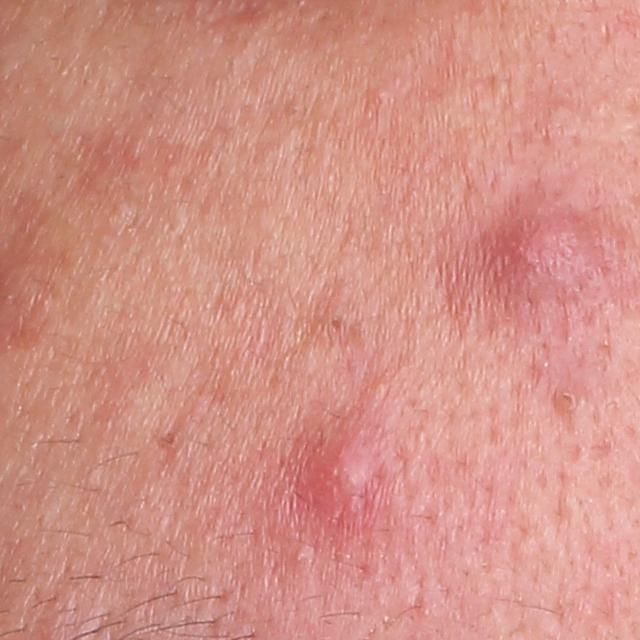comedo: (552, 388, 582, 416), (292, 541, 318, 568), (369, 84, 394, 102), (160, 429, 180, 448)
papule: (497, 211, 589, 308), (309, 426, 388, 513)
